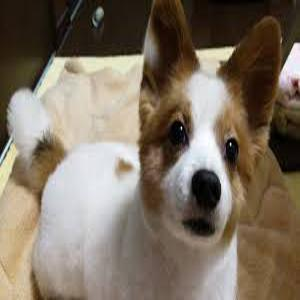yell: (7, 0, 282, 300)
